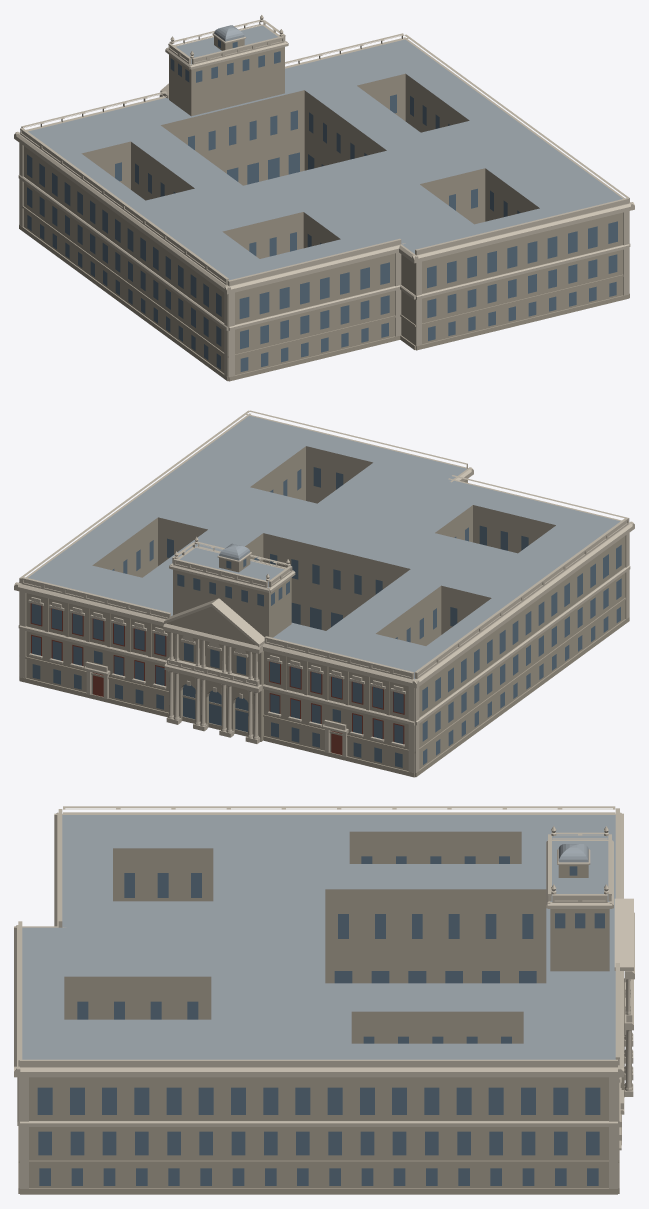
Rendered from mexico-city-palacio-de-mineria.glb.
3 renders of one model, top to bottom at view 1: azimuth 30°, elevation 25°; view 2: azimuth 150°, elevation 25°; view 3: azimuth 270°, elevation 25°, orthographic. The views are drawn at different scales.
Parts seen in each view (by area): view 1: Palacio de Minería; view 2: Palacio de Minería; view 3: Palacio de Minería.
Boxes of the visible parts, box(x1,y1,x2,y2) form: Palacio de Minería: box(14, 15, 634, 381); Palacio de Minería: box(14, 410, 634, 777); Palacio de Minería: box(14, 806, 634, 1194).
Bounding box in the file's own units: 89 × 36 × 91.
